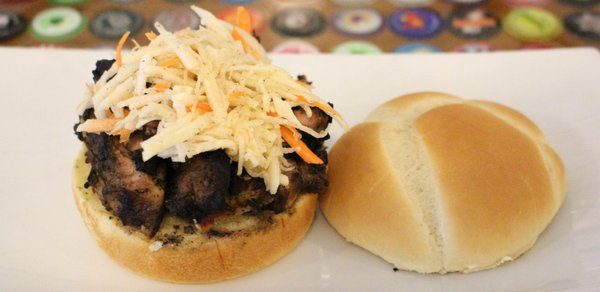soup: (70, 10, 345, 282)
